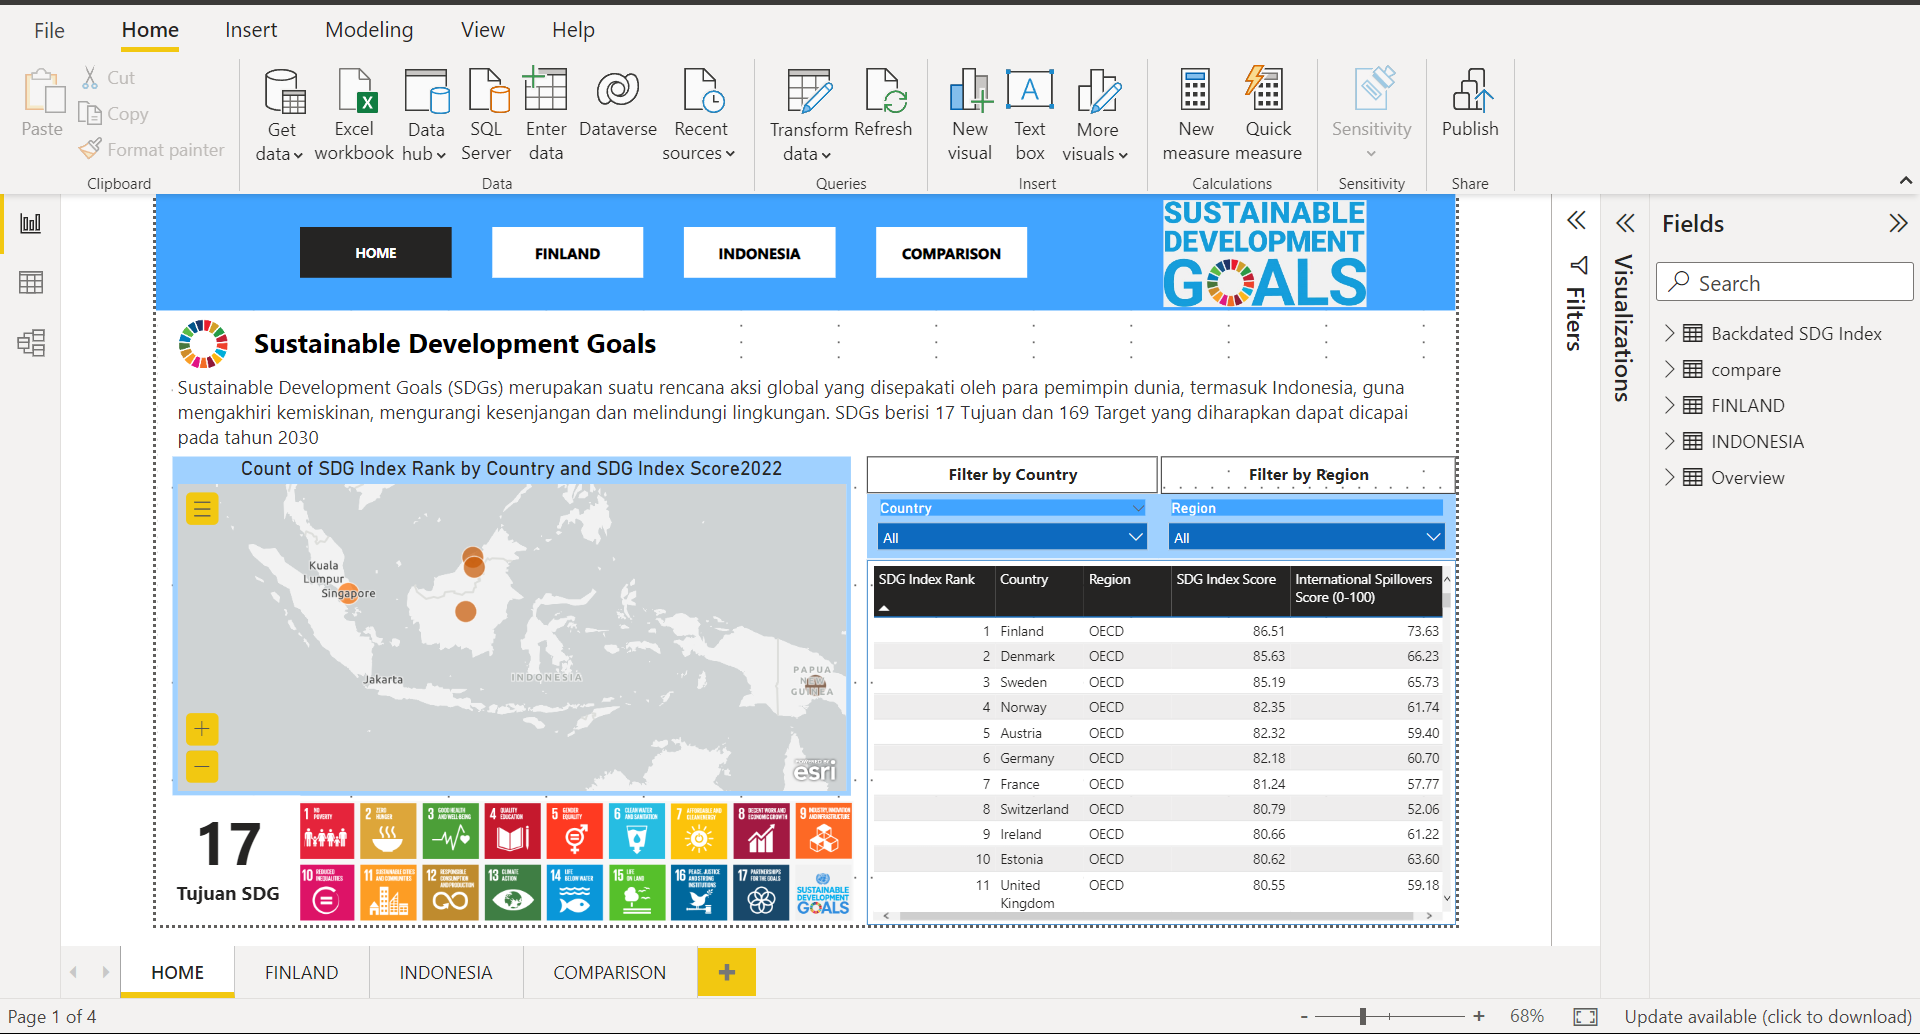

Layout of this report page (visuals, bound fields, positions):
{"tool":"powerbi","page":{"name":"HOME","canvas":[1280,720],"ordinal":0},"visuals":[{"type":"textbox","box":[0,0,1279.5,114.4],"z":0},{"type":"image","box":[16,114,60,68],"z":1000},{"type":"image","box":[986.7,0,210,116.7],"z":2000},{"type":"textbox","box":[92,122,424,50],"z":3000},{"type":"textbox","box":[16,172,1250,90],"z":4000},{"type":"pageNavigator","box":[142,32,718,50],"z":5000},{"type":"tableEx","fields":{"Values":["Overview.2022 SDG Index Rank","Overview.Country","Overview.Region","Overview.2022 SDG Index Score","Overview.International Spillovers Score (0-100)"]},"box":[699.3,360.8,580.1,359.2],"z":6000},{"type":"slicer","fields":{"Values":["Overview.Country"]},"box":[700,295,286.7,63.3],"z":7000},{"type":"slicer","fields":{"Values":["Overview.Region"]},"box":[986.7,295,293.3,63.3],"z":8000},{"type":"textbox","box":[990,258.3,290,36.7],"z":9000},{"type":"textbox","box":[700,258.8,286.2,36.2],"z":10000},{"type":"esriVisual","title":"Count of SDG Index Rank by Country and SDG Index Score2022","fields":{"Location":["Overview.Country"],"Color":["Overview.2022 SDG Index Score"],"Size":["CountNonNull(Overview.2022 SDG Index Rank)"]},"box":[16,258,668,334],"z":11000},{"type":"image","box":[124,592,576,128],"z":12000},{"type":"textbox","box":[0,592,142,128],"z":13000}]}

Visuals, with their boxes on the page's 1280x720 design canvas (x1, y1, x2, y2). These are canvas units, not pixel positions in the 1920x1034 screenshot, which may show the page scaled, cropped or inside an application window:
textbox: locate(0, 0, 1280, 114)
image: locate(16, 114, 76, 182)
image: locate(987, 0, 1197, 117)
textbox: locate(92, 122, 516, 172)
textbox: locate(16, 172, 1266, 262)
pageNavigator: locate(142, 32, 860, 82)
tableEx - Overview.2022 SDG Index Rank x Overview.Country: locate(699, 361, 1279, 720)
slicer - Overview.Country: locate(700, 295, 987, 358)
slicer - Overview.Region: locate(987, 295, 1280, 358)
textbox: locate(990, 258, 1280, 295)
textbox: locate(700, 259, 986, 295)
"Count of SDG Index Rank by Country and SDG Index Score2022" esriVisual: locate(16, 258, 684, 592)
image: locate(124, 592, 700, 720)
textbox: locate(0, 592, 142, 720)
